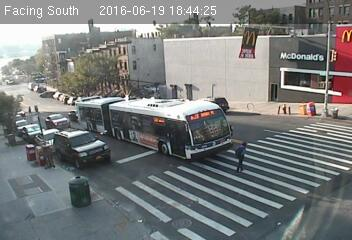neg: (173, 128, 195, 159), (122, 115, 137, 135)
pos: (226, 138, 257, 178)
